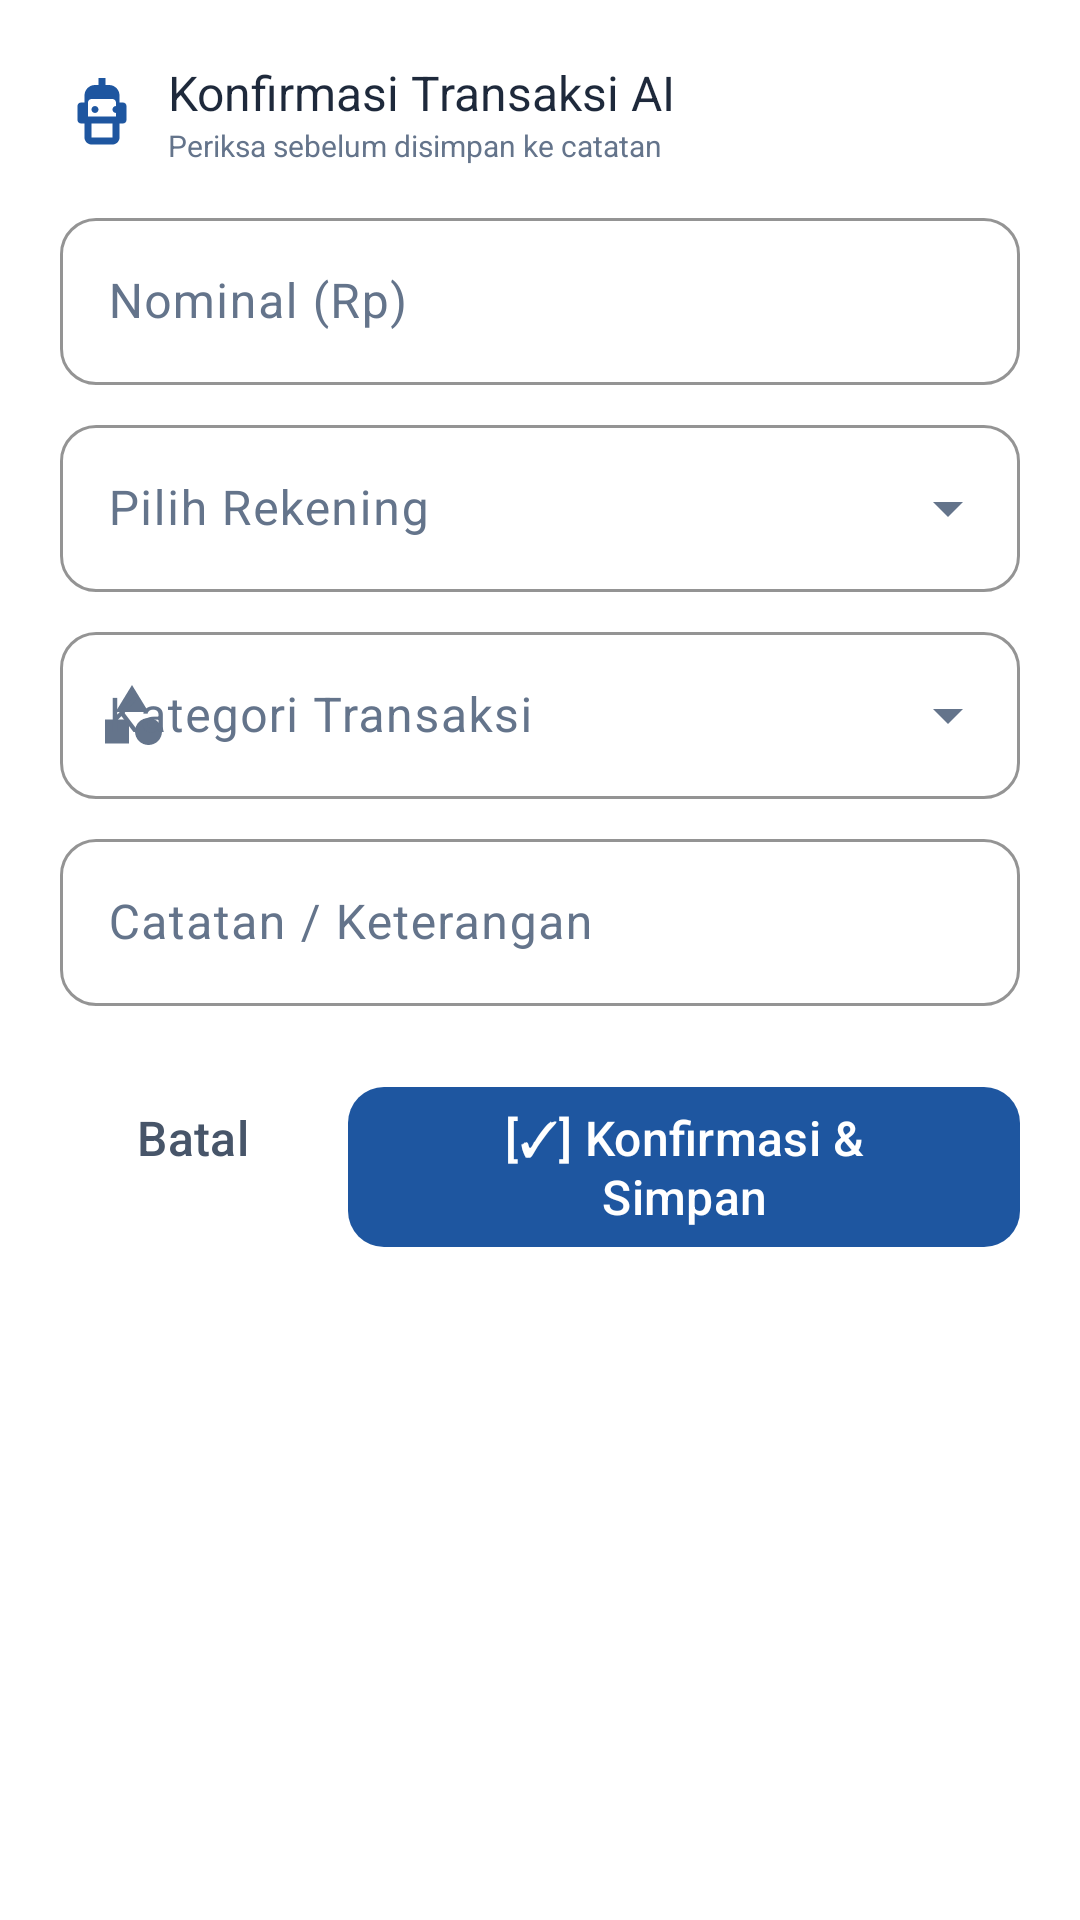

Icons on this 1080px×1920px Android screen, each with its box as rect(x1, y1, x2, y2):
FinGPT Bot: rect(77, 78, 127, 145)
